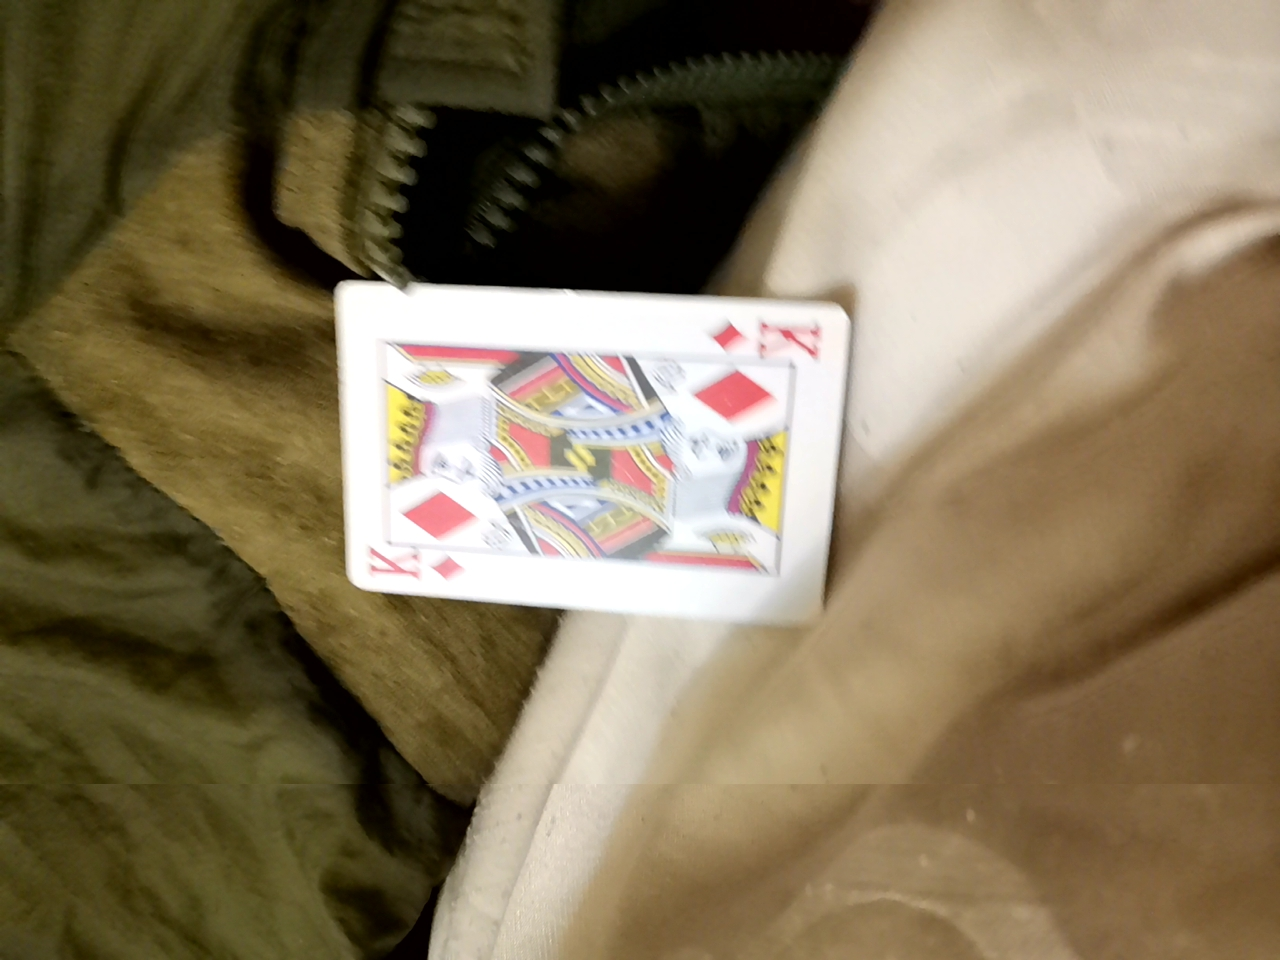fk k: (336, 296, 837, 614)
